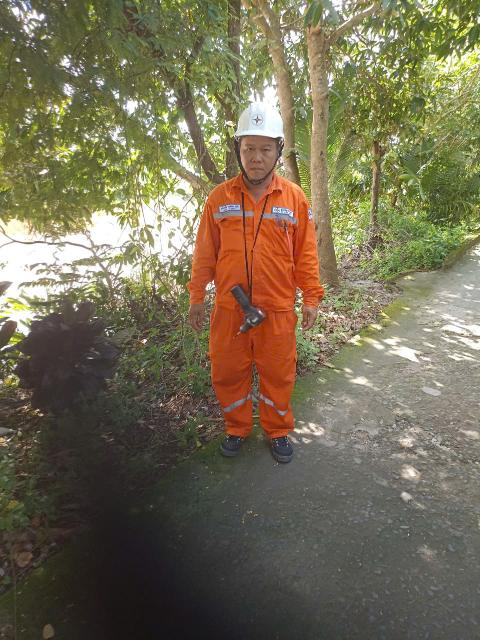helmet: (230, 92, 294, 151)
shoes: (216, 436, 254, 472), (266, 428, 297, 465)
